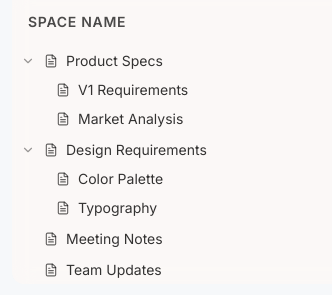
SpaceHierarchy › toggles children when an item with children is clicked
The width and height of the screenshot is (332, 295).
Expected: the text "V1 Requirements" is shown, [78,81,188,98]
Click to collapse
Click the button "Product Specs". click: click(91, 60)
box: [12,46,171,75]
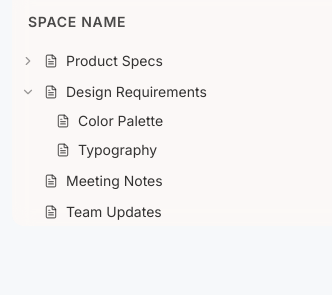
Expected: the button "V1 Requirements" is gone
Click to expand again
Click the button "Product Specs". click: click(91, 60)
box: [12,46,171,75]
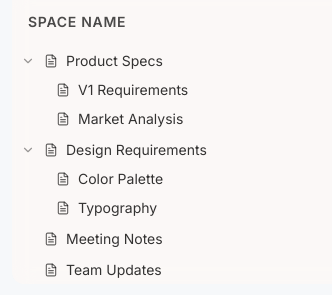
Expected: the text "V1 Requirements" is shown, [78,81,188,98]
